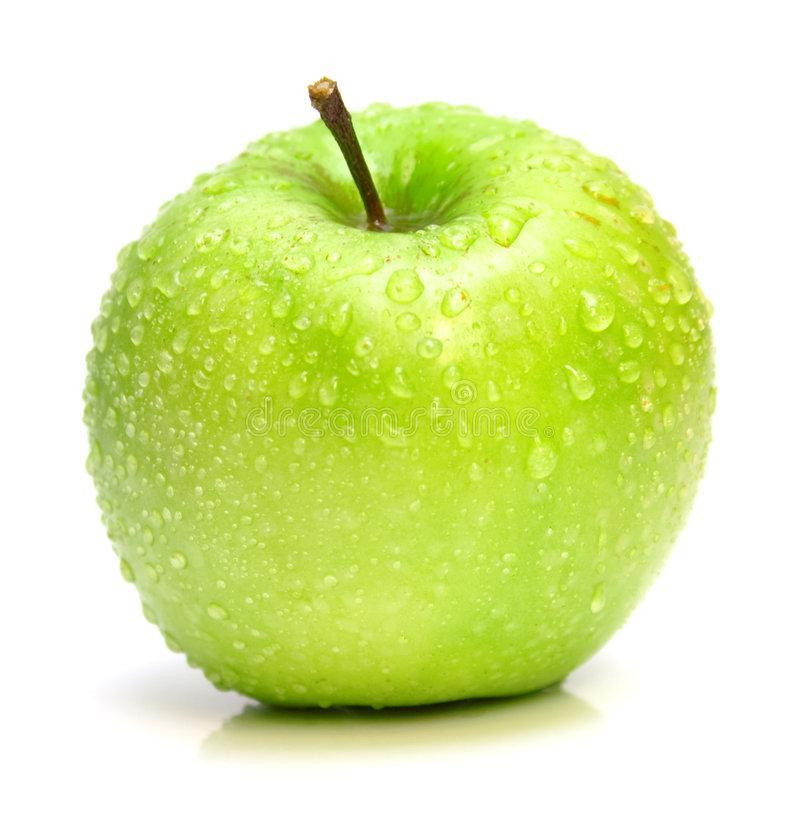apple: (85, 86, 718, 700)
